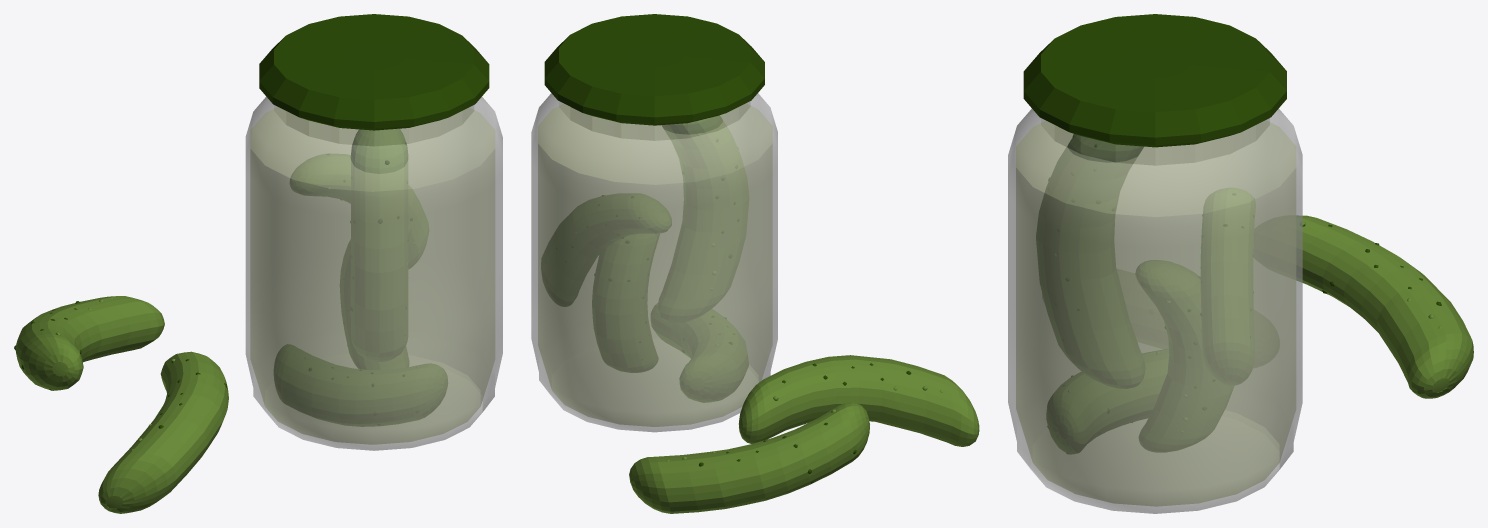
The model's file is pickle_jar.glb.
The picture shows the model from 3 angles, left to right: view 1: azimuth 30°, elevation 25°; view 2: azimuth 150°, elevation 25°; view 3: azimuth 270°, elevation 25°; orthographic projection. The views are drawn at different scales.
Parts seen in each view (by area): view 1: Object_6, Object_7, Object_4, Object_5; view 2: Object_6, Object_7, Object_4, Object_5; view 3: Object_6, Object_7, Object_4, Object_5.
Part boxes in pixels (<box>): Object_6: <box>245,96,502,450</box>; Object_7: <box>250,107,494,444</box>; Object_4: <box>15,128,447,513</box>; Object_5: <box>14,14,489,428</box>; Object_6: <box>531,93,777,432</box>; Object_7: <box>538,103,772,426</box>; Object_4: <box>541,115,979,513</box>; Object_5: <box>544,14,911,483</box>; Object_6: <box>1008,108,1302,513</box>; Object_7: <box>1016,120,1295,506</box>; Object_4: <box>1036,134,1473,454</box>; Object_5: <box>1023,14,1441,453</box>.
Size of the model in its own units: 54.71 by 45.22 by 46.07.
